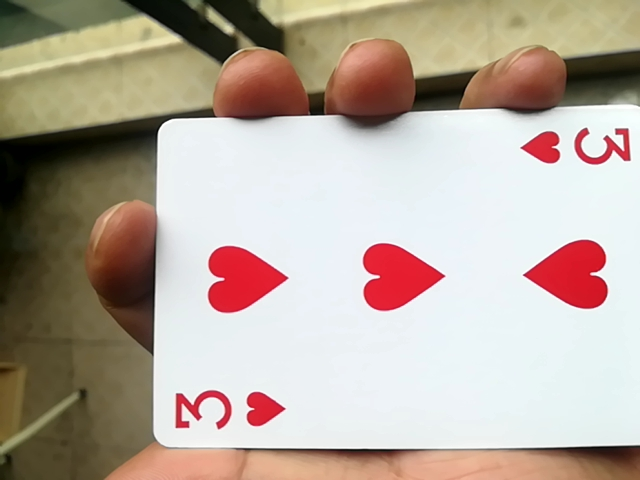hx 3: (140, 114, 636, 470)
